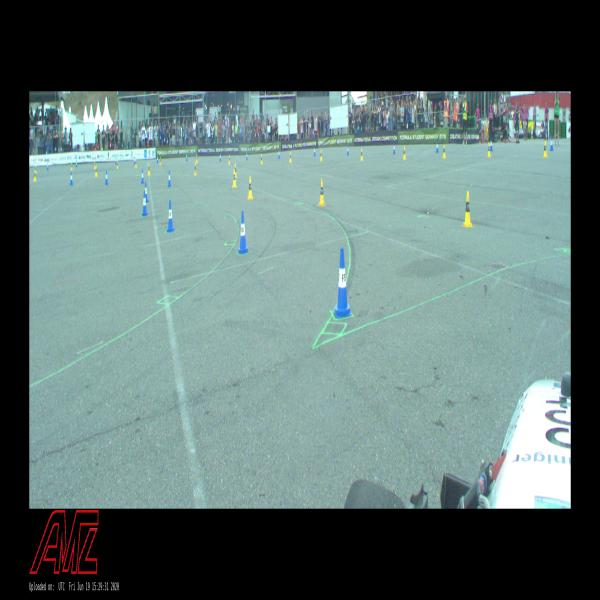blue_cone: (334, 248, 352, 316), (239, 211, 248, 253), (167, 200, 174, 232), (142, 191, 148, 215), (167, 170, 172, 187), (144, 182, 148, 201), (141, 169, 144, 183), (550, 137, 553, 151), (105, 171, 108, 184), (490, 138, 493, 151), (70, 172, 73, 184), (346, 146, 349, 155), (393, 143, 395, 154), (436, 141, 438, 152), (314, 146, 316, 156), (246, 151, 248, 160), (186, 153, 188, 161), (278, 150, 280, 158), (115, 158, 117, 164), (47, 162, 48, 170), (220, 153, 221, 161), (157, 156, 158, 163), (134, 157, 135, 164), (76, 160, 77, 167)
yellow_cone: (463, 191, 472, 226), (319, 179, 325, 205), (248, 177, 253, 199), (232, 170, 236, 187), (543, 141, 547, 157), (487, 142, 491, 157), (403, 147, 406, 160), (194, 163, 197, 176), (442, 145, 445, 158), (95, 165, 98, 177), (360, 150, 363, 160), (320, 150, 323, 160), (235, 163, 237, 178), (148, 163, 150, 175), (290, 152, 292, 163), (260, 154, 262, 164), (34, 171, 36, 181), (135, 159, 137, 168), (196, 154, 198, 163), (160, 157, 162, 165), (228, 156, 230, 164), (116, 161, 118, 169), (94, 162, 96, 169), (34, 166, 36, 173), (71, 163, 72, 170)
